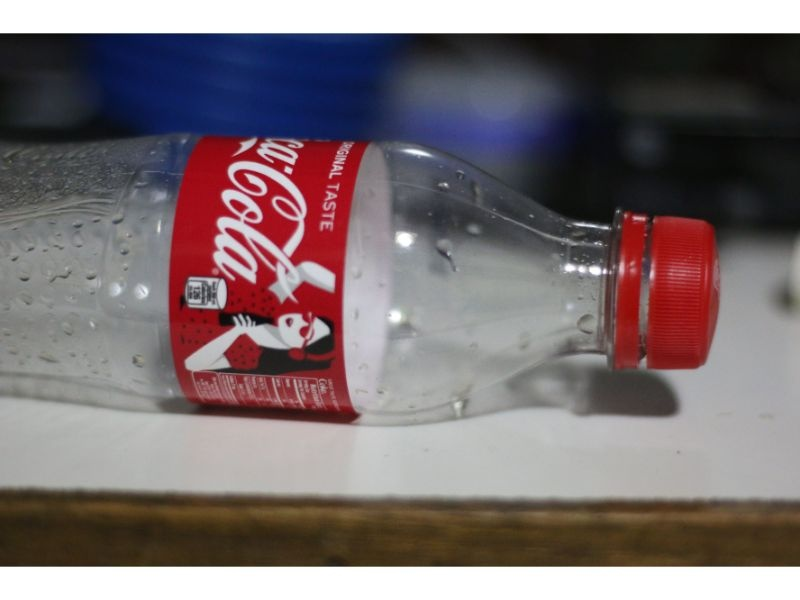PET #1: (1, 131, 721, 432)
